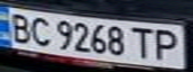2: (69, 20, 90, 54)
6: (87, 21, 109, 55)
8: (106, 23, 130, 57)
9: (51, 17, 75, 52)
B: (3, 10, 36, 44)
C: (24, 15, 54, 47)
P: (148, 27, 187, 62)
T: (127, 25, 157, 60)
